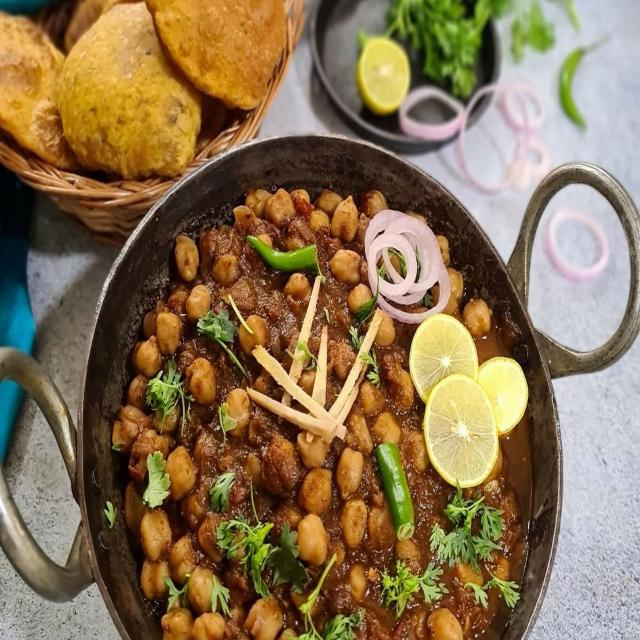Chole: (108, 184, 530, 640)
